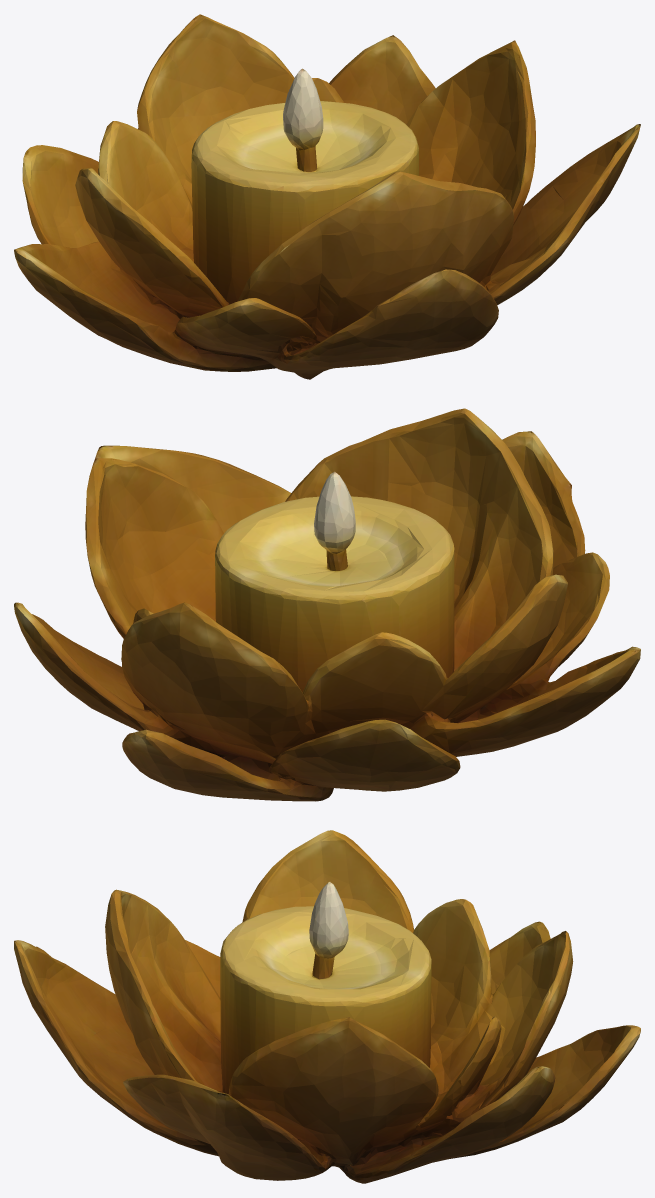
Rendered from deco-candle.glb.
The picture shows the model from 3 angles, top to bottom: view 1: azimuth 30°, elevation 25°; view 2: azimuth 150°, elevation 25°; view 3: azimuth 270°, elevation 25°; orthographic projection. The views are drawn at different scales.
Parts seen in each view (by area): view 1: world; view 2: world; view 3: world.
Part boxes in pixels (x1=…): world: x1=14, y1=14, x2=640, y2=379; world: x1=14, y1=408, x2=640, y2=801; world: x1=14, y1=830, x2=640, y2=1183.
Size of the model in its own units: 0.9975 by 0.453 by 0.9871.
Materials: 1 (1 with a texture image).
